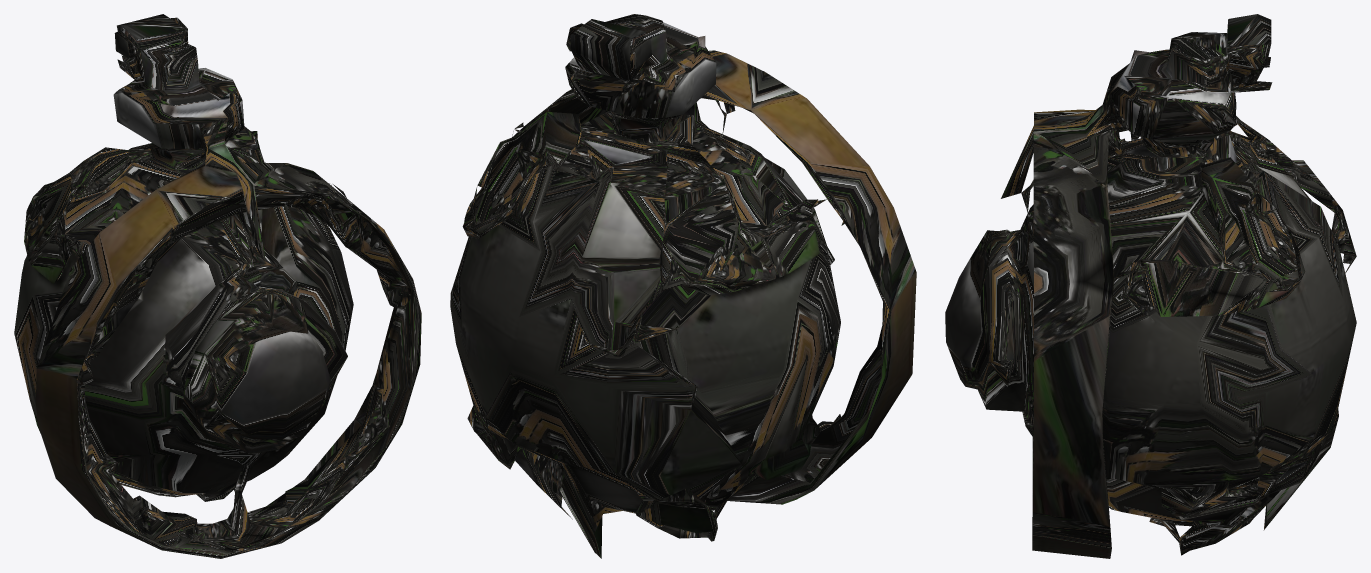
File: mega_bomb.glb
The picture shows the model from 3 angles, left to right: view 1: azimuth 30°, elevation 25°; view 2: azimuth 150°, elevation 25°; view 3: azimuth 270°, elevation 25°; orthographic projection. The views are drawn at different scales.
Parts seen in each view (by area): view 1: mega_bomb; view 2: mega_bomb; view 3: mega_bomb.
Part boxes in pixels (left/top/right/bottom): mega_bomb: left=14, top=14, right=421, bottom=558; mega_bomb: left=450, top=14, right=916, bottom=558; mega_bomb: left=945, top=14, right=1356, bottom=558.
Size of the model in its own units: 0.8226 by 0.9976 by 0.7352.
1 material, 1 textured.
